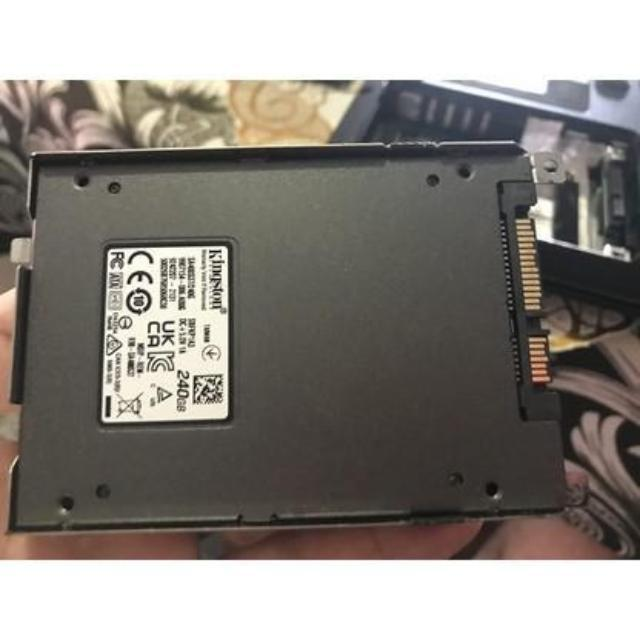DISK: (21, 143, 574, 528)
